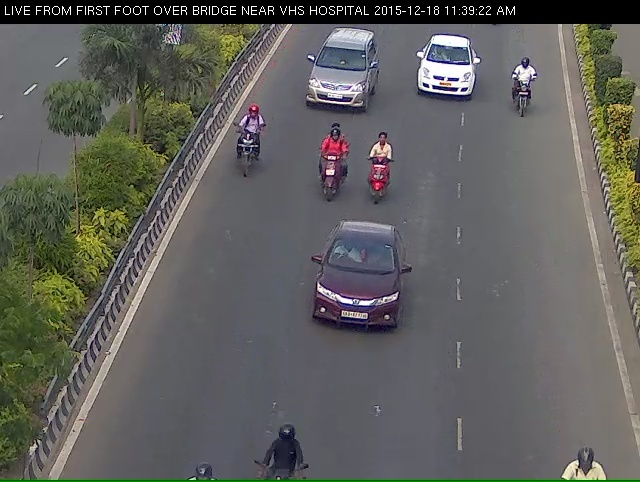Car: (304, 228, 405, 357), (310, 38, 375, 123), (415, 46, 477, 111)
Person: (223, 114, 264, 185), (359, 149, 396, 217), (507, 66, 542, 127), (314, 138, 341, 211)
